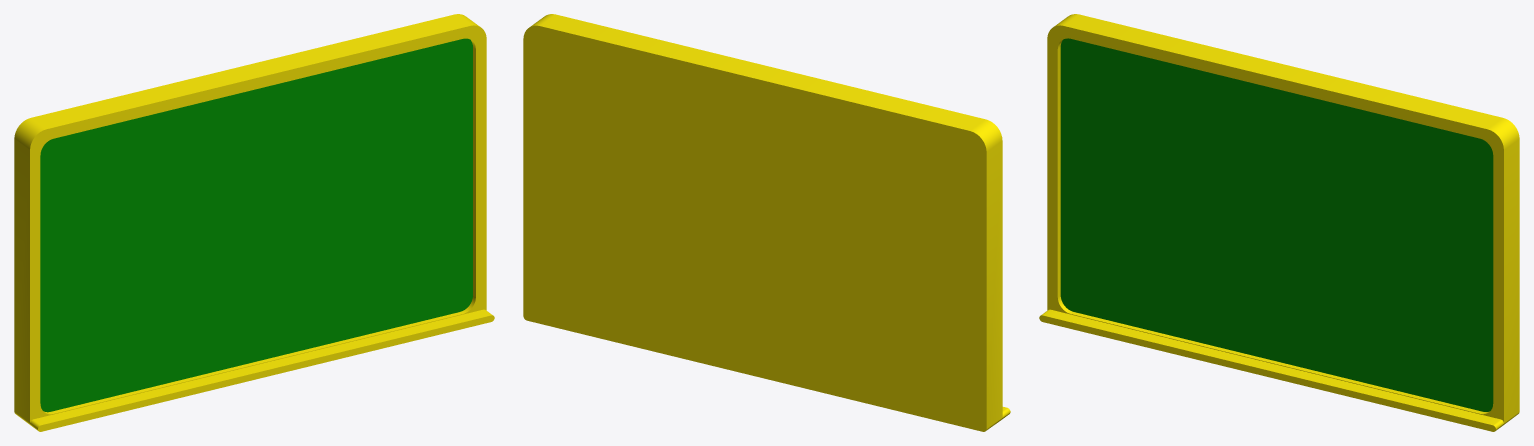
File: Pizarron.fbx
3 views of the same model, side by side, from view 1: azimuth 30°, elevation 25°; view 2: azimuth 150°, elevation 25°; view 3: azimuth 330°, elevation 25° (orthographic).
Visible parts, largest first — view 1: Frente_pizzarron.001, Pizarron; view 2: Pizarron; view 3: Frente_pizzarron.001, Pizarron.
Part boxes in pixels (<box>): Frente_pizzarron.001: <box>40,38,472,412</box>; Pizarron: <box>14,14,494,431</box>; Pizarron: <box>523,14,1010,431</box>; Frente_pizzarron.001: <box>1060,38,1493,411</box>; Pizarron: <box>1039,14,1519,431</box>.
Bounding box in the file's own units: 326 × 200 × 29.17.
